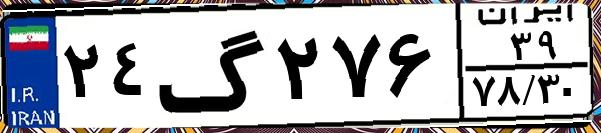0: (560, 70, 590, 125)
2: (270, 28, 330, 110), (57, 26, 110, 100)
3: (508, 27, 537, 80), (535, 70, 560, 125)
4: (110, 28, 156, 98)
6: (385, 28, 445, 110)
7: (330, 28, 385, 110), (470, 70, 495, 125)
8: (495, 70, 520, 125)
9: (537, 27, 568, 80)
گ: (156, 12, 270, 120)
